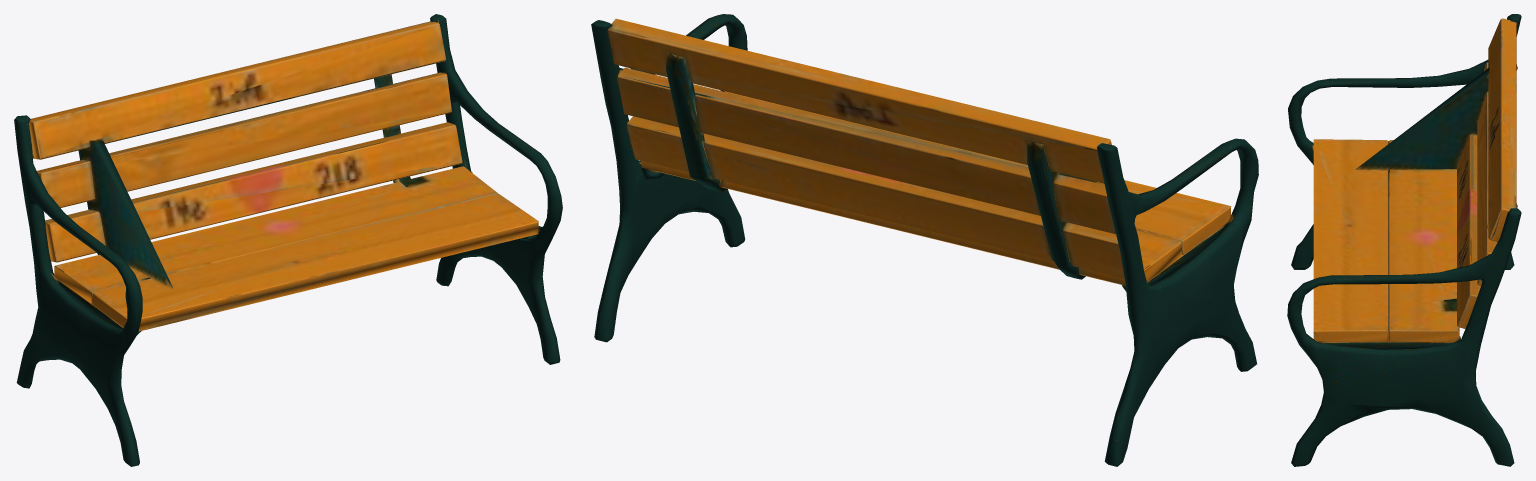
Rendered from bench.glb.
3 renders of one model, left to right at view 1: azimuth 30°, elevation 25°; view 2: azimuth 150°, elevation 25°; view 3: azimuth 270°, elevation 25°, orthographic. The views are drawn at different scales.
Size of the model in its own units: 1.8 by 1.04 by 0.8742.
1 material, 1 textured.
